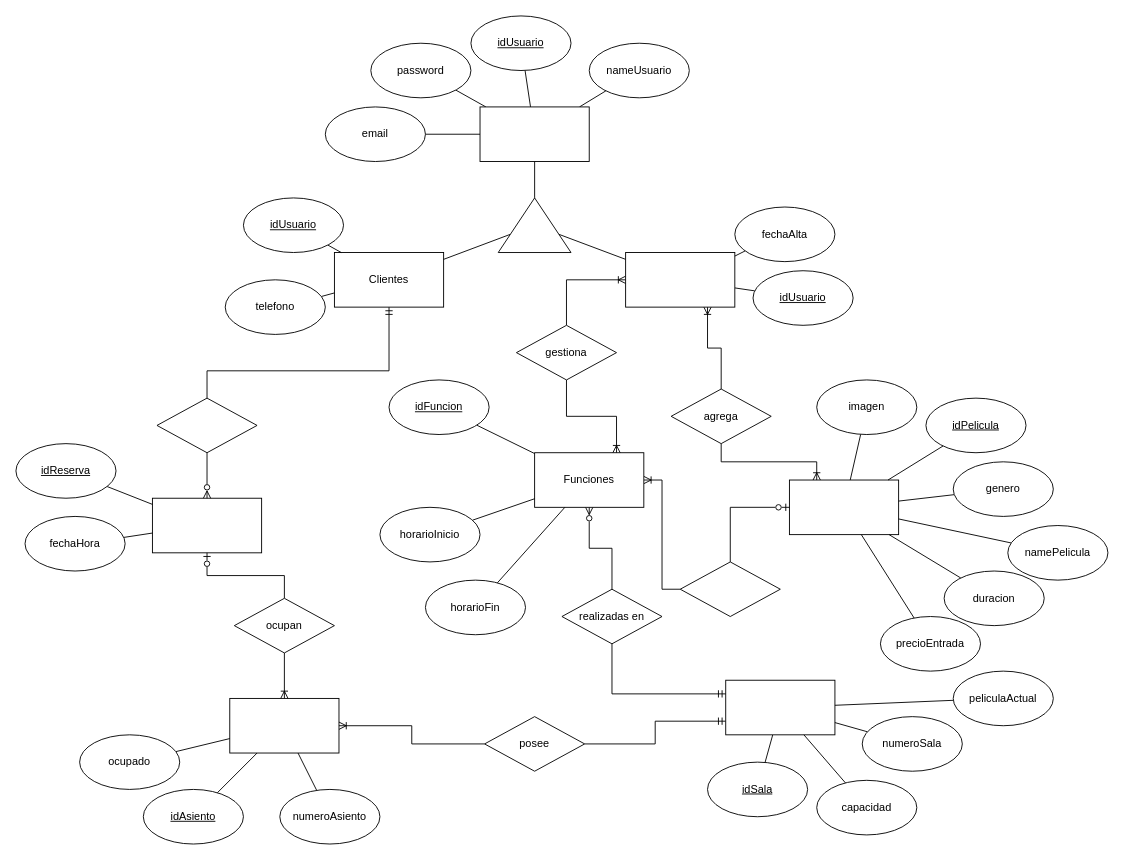
The diagram is 1124 pixels wide and 860 high, and some of its shapes have lost their labels. The centre of each missing label's shape, as x and y in pixels:
Administrador: [680,279]
Asientos: [284,725]
Pelicula: [844,507]
realizan: [206,425]
Reserva: [207,525]
Sala: [780,707]
se proyecta: [729,589]
Usuarios: [534,134]
